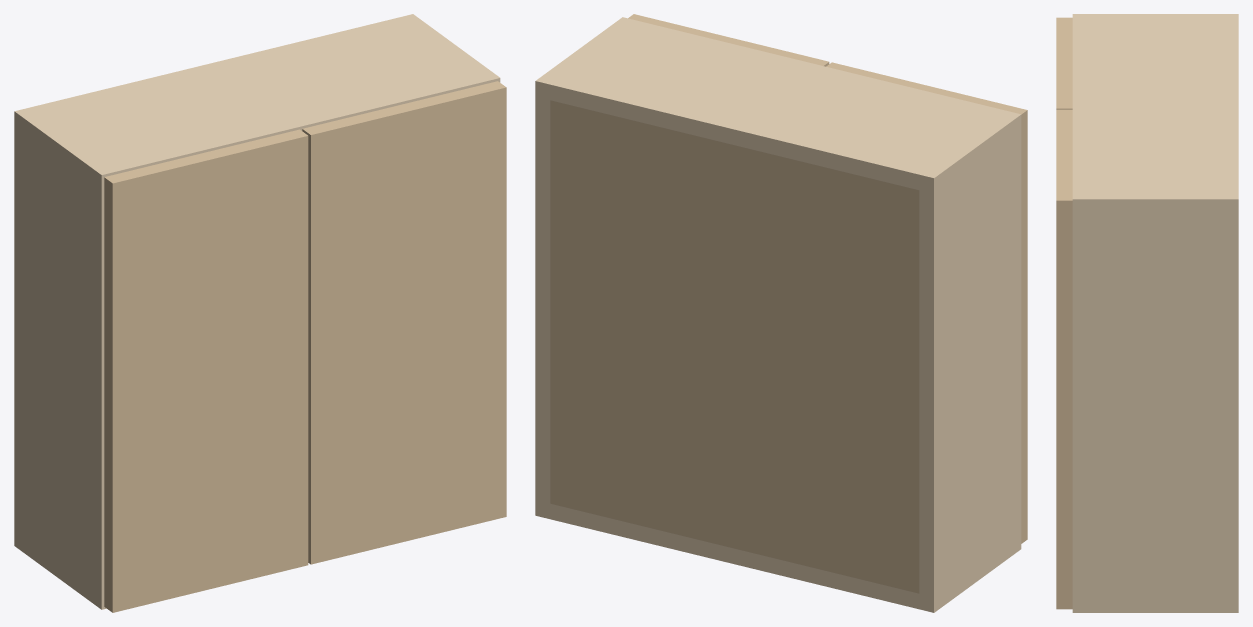
File: cocina.glb
3 views of the same model, side by side, from view 1: azimuth 30°, elevation 25°; view 2: azimuth 150°, elevation 25°; view 3: azimuth 270°, elevation 25° (orthographic). The views are drawn at different scales.
Visible parts, largest first — view 1: 009 Puerta 1, 010 Puerta 2, 001 Lateral izq, 004 Techo, 002 Lateral der; view 2: 005 Trasera, 001 Lateral izq, 004 Techo, 002 Lateral der, 003 Base, 009 Puerta 1, 010 Puerta 2; view 3: 002 Lateral der, 004 Techo, 010 Puerta 2, 009 Puerta 1, 001 Lateral izq.
Part boxes in pixels (x1,y1,x2,y2): 009 Puerta 1: [104, 129, 308, 612]; 010 Puerta 2: [302, 81, 506, 564]; 001 Lateral izq: [14, 107, 116, 609]; 004 Techo: [30, 17, 485, 173]; 002 Lateral der: [398, 14, 500, 83]; 005 Trasera: [550, 100, 919, 593]; 001 Lateral izq: [919, 110, 1021, 612]; 004 Techo: [550, 21, 1005, 189]; 002 Lateral der: [535, 17, 637, 518]; 003 Base: [550, 503, 919, 609]; 009 Puerta 1: [826, 62, 1027, 543]; 010 Puerta 2: [628, 14, 829, 66]; 002 Lateral der: [1072, 192, 1238, 612]; 004 Techo: [1072, 21, 1238, 192]; 010 Puerta 2: [1056, 109, 1072, 609]; 009 Puerta 1: [1056, 17, 1072, 109]; 001 Lateral izq: [1072, 14, 1238, 20].
Size of the model in its own units: 0.48 by 0.5 by 0.2.
